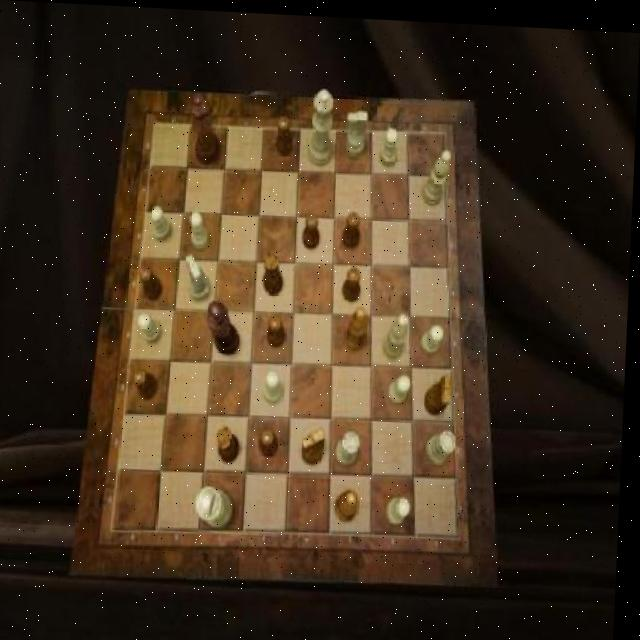bishop: (347, 302, 371, 349), (339, 485, 364, 519)
black-bishop: (208, 298, 245, 353)
black-king: (428, 369, 455, 411), (306, 424, 330, 462)
black-knight: (140, 263, 166, 298), (136, 366, 161, 398), (278, 113, 296, 154), (344, 208, 363, 245), (345, 264, 364, 299), (270, 311, 290, 344), (306, 210, 324, 246), (263, 425, 284, 453)
black-pawn: (189, 91, 224, 163)
black-queen: (266, 248, 288, 293), (220, 422, 245, 460)
black-rook: (424, 146, 453, 203), (387, 309, 411, 356)
white-bishop: (201, 483, 239, 526)
white-king: (187, 253, 213, 300), (346, 108, 368, 155)
white-knight: (140, 311, 165, 343), (192, 210, 213, 248), (152, 205, 174, 241), (424, 319, 448, 351), (390, 494, 415, 522), (391, 370, 415, 399), (268, 368, 287, 403), (383, 124, 400, 163)
white-pawn: (309, 85, 336, 164)
white-queen: (429, 426, 460, 462), (340, 427, 364, 462)
